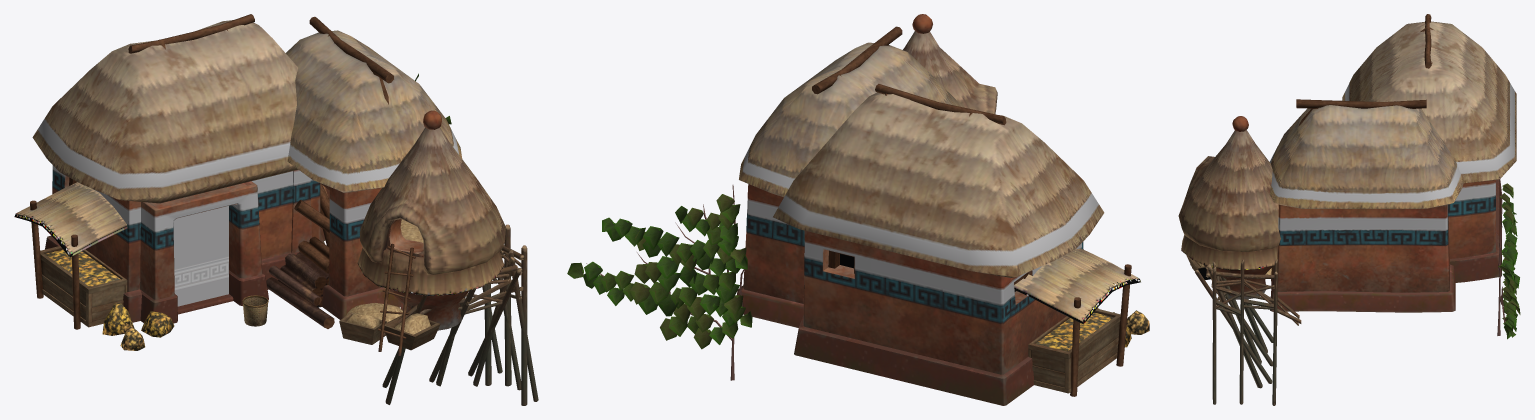
Rendered from 10-calpulli.glb.
3 views of the same model, side by side, from view 1: azimuth 30°, elevation 25°; view 2: azimuth 150°, elevation 25°; view 3: azimuth 270°, elevation 25° (orthographic). The views are drawn at different scales.
Bounding box in the file's own units: 9.29 × 6.44 × 7.02.
6 materials, 6 textured.
